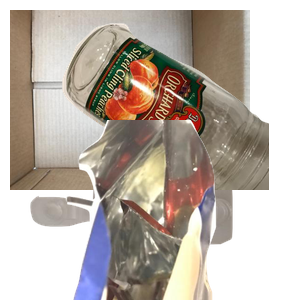cardboard: (10, 10, 250, 190)
glass: (60, 21, 300, 201)
plastic: (28, 176, 253, 300)
trash: (63, 120, 300, 300)
